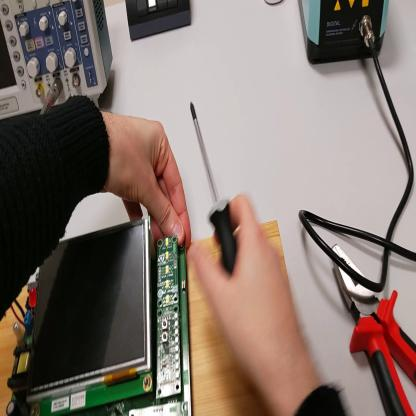hand: (191, 197, 302, 396), (104, 114, 193, 250)
low voltage board: (7, 218, 193, 416)
oscilloscope: (2, 2, 114, 120)
pliers: (335, 253, 416, 415)
screwdriver-: (190, 96, 239, 276)
welder station: (299, 2, 390, 66)
working area: (2, 222, 296, 412)
